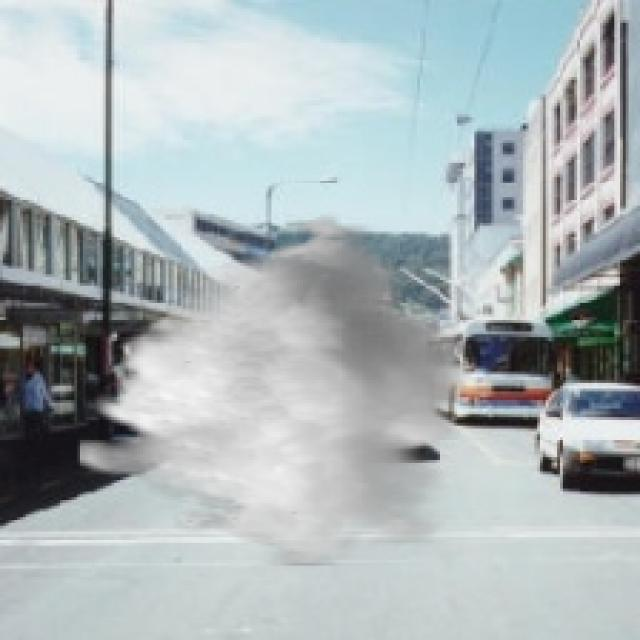smoke: (77, 208, 472, 566)
